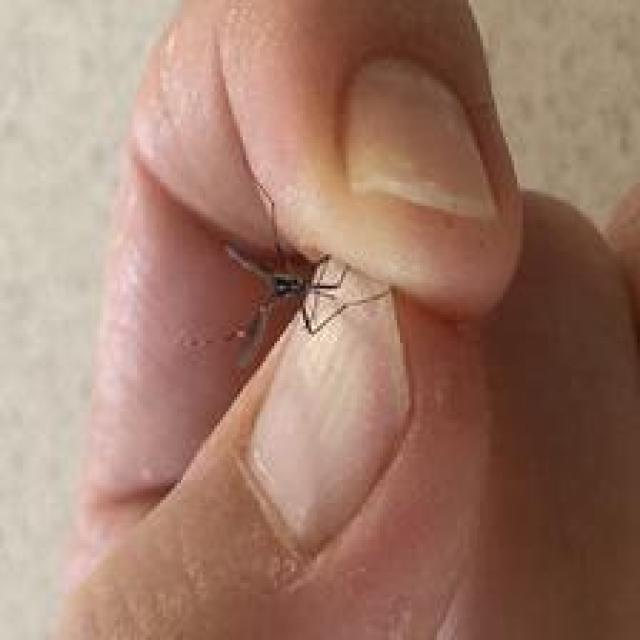Aedes albopictus: (218, 192, 393, 368)
